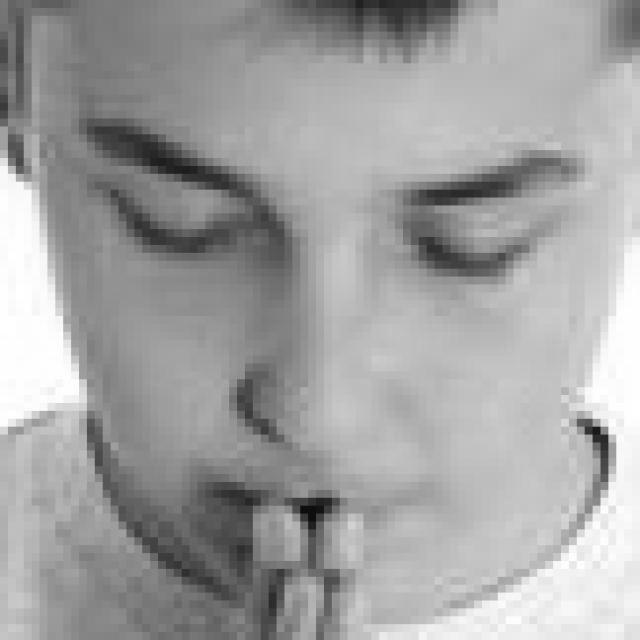real: (31, 0, 632, 600), (82, 156, 574, 300)
